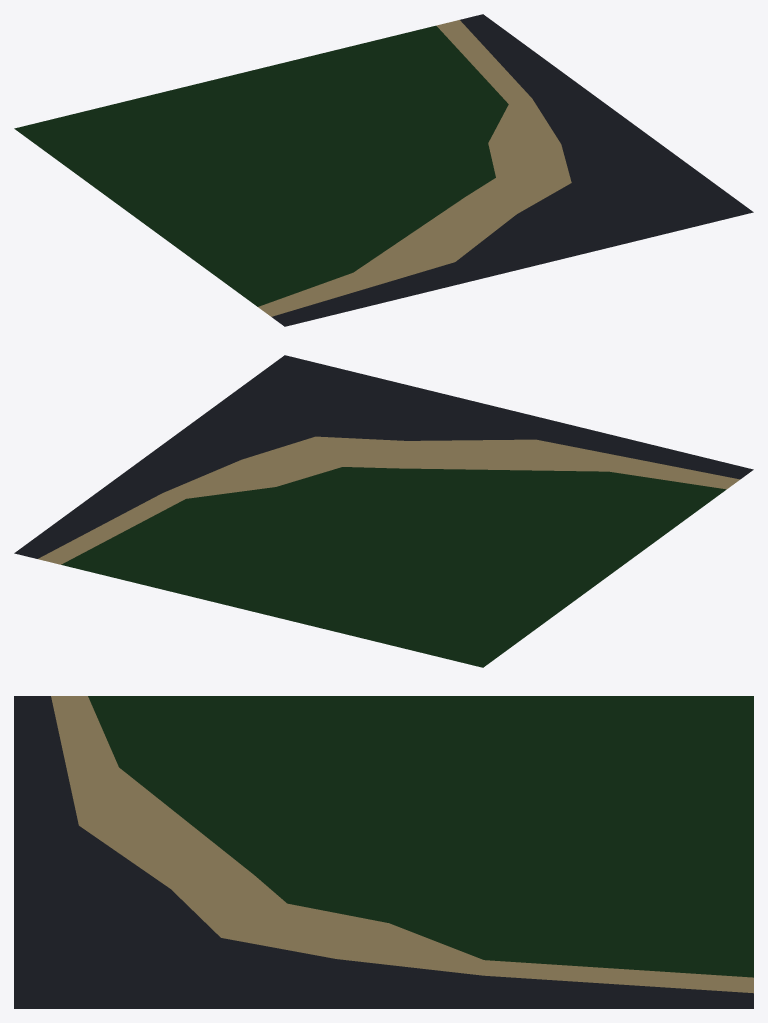
Rendered from terrain_plains_corner_outer1.fbx.
The picture shows the model from 3 angles, top to bottom: view 1: azimuth 30°, elevation 25°; view 2: azimuth 150°, elevation 25°; view 3: azimuth 270°, elevation 25°; orthographic projection. The views are drawn at different scales.
Visible parts, largest first — view 1: terrain_plains_corner_outer1; view 2: terrain_plains_corner_outer1; view 3: terrain_plains_corner_outer1.
Boxes of the visible parts, <box> form: terrain_plains_corner_outer1: <box>14,14,753,326</box>; terrain_plains_corner_outer1: <box>14,355,753,667</box>; terrain_plains_corner_outer1: <box>14,696,753,1008</box>.
Bounding box in the file's own units: 10 × 0 × 10.
